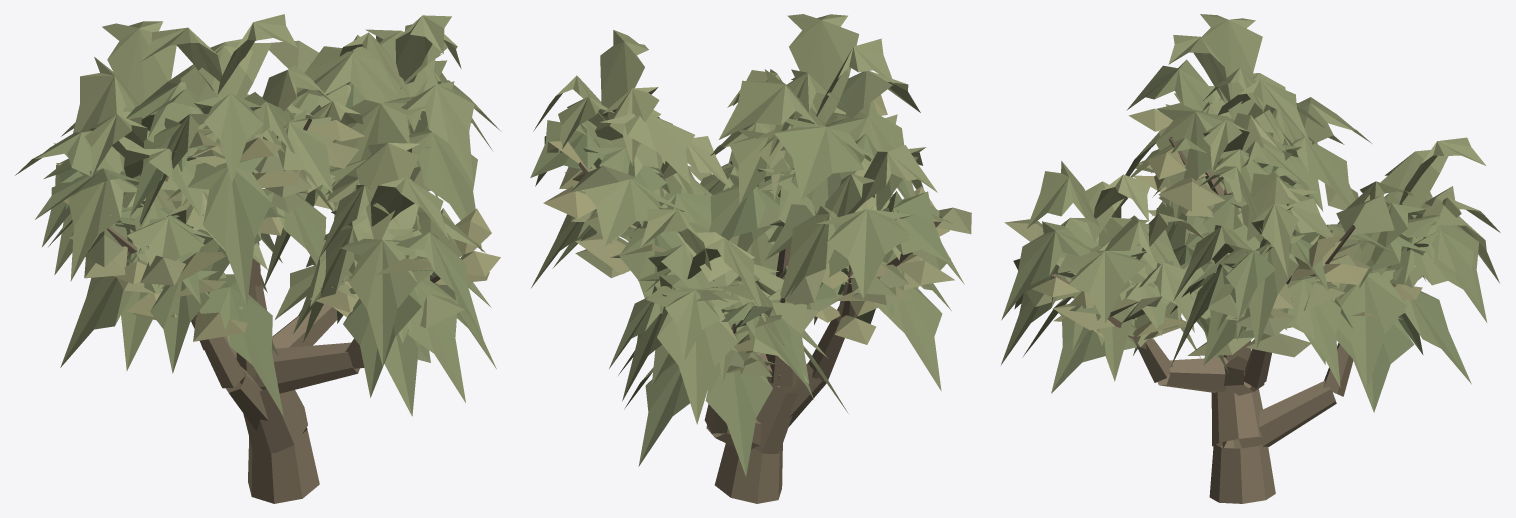
The model's file is vase.glb.
3 views of the same model, side by side, from view 1: azimuth 30°, elevation 25°; view 2: azimuth 150°, elevation 25°; view 3: azimuth 270°, elevation 25° (orthographic). The views are drawn at different scales.
Visible parts, largest first — view 1: vase; view 2: vase; view 3: vase.
Boxes of the visible parts, left/top/right/bottom form: vase: left=15, top=14, right=501, bottom=503; vase: left=530, top=14, right=971, bottom=503; vase: left=1001, top=14, right=1500, bottom=503.
Size of the model in its own units: 1.65 by 1.74 by 1.79.
